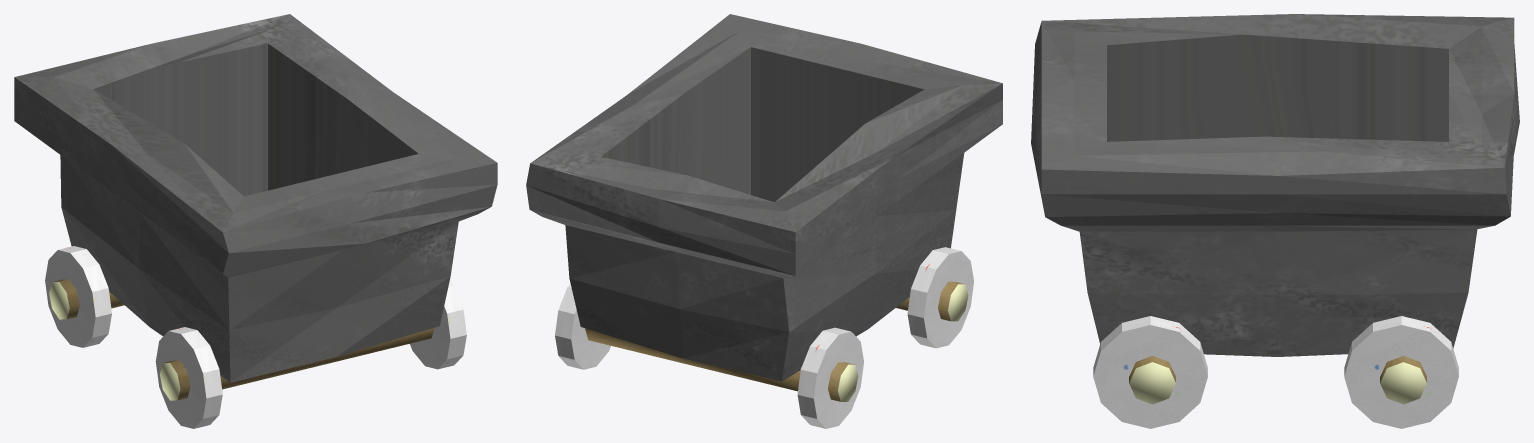
The model's file is Cart.fbx.
3 renders of one model, left to right at view 1: azimuth 30°, elevation 25°; view 2: azimuth 150°, elevation 25°; view 3: azimuth 270°, elevation 25°, orthographic. The views are drawn at different scales.
Parts seen in each view (by area): view 1: Body, Wheel.003, Wheel, Wheel.002, Base, Base.001; view 2: Body, Wheel, Wheel.003, Base.001, Wheel.001, Base; view 3: Body, Wheel.002, Wheel.001, Base.001, Base.
Boxes of the visible parts, bbox=[...] form: Body: bbox=[14, 14, 497, 382]; Wheel.003: bbox=[155, 327, 222, 428]; Wheel: bbox=[45, 246, 111, 347]; Wheel.002: bbox=[410, 281, 466, 369]; Base: bbox=[159, 327, 434, 400]; Base.001: bbox=[49, 279, 124, 319]; Body: bbox=[526, 14, 1002, 381]; Wheel: bbox=[797, 327, 863, 428]; Wheel.003: bbox=[907, 247, 973, 348]; Base.001: bbox=[585, 328, 858, 401]; Wheel.001: bbox=[555, 283, 610, 369]; Base: bbox=[896, 281, 968, 321]; Body: bbox=[1031, 14, 1519, 356]; Wheel.002: bbox=[1093, 316, 1207, 428]; Wheel.001: bbox=[1344, 316, 1458, 428]; Base.001: bbox=[1380, 355, 1426, 404]; Base: bbox=[1129, 355, 1175, 404].
Size of the model in its own units: 4.12 by 3.38 by 5.45.
